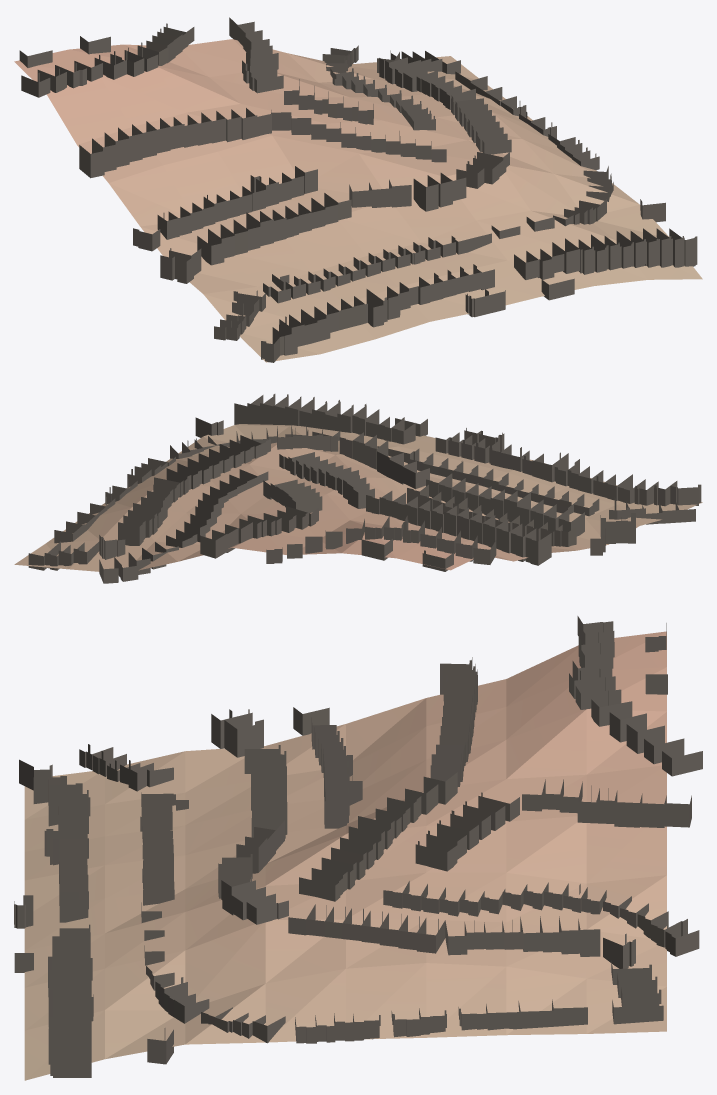
Rendered from tile_21_-12_lod1.gltf.
3 views of the same model, one above another, from view 1: azimuth 30°, elevation 25°; view 2: azimuth 150°, elevation 25°; view 3: azimuth 270°, elevation 25° (orthographic). The views are drawn at different scales.
Parts seen in each view (by area): view 1: Terrain_col, Buildings_col; view 2: Buildings_col, Terrain_col; view 3: Terrain_col, Buildings_col.
Boxes of the visible parts, x1=… form: Terrain_col: x1=14, y1=39, x2=702, y2=362; Buildings_col: x1=19, y1=17, x2=697, y2=362; Buildings_col: x1=28, y1=394, x2=701, y2=583; Terrain_col: x1=14, y1=424, x2=702, y2=571; Terrain_col: x1=24, y1=631, x2=666, y2=1080; Buildings_col: x1=14, y1=616, x2=702, y2=1077.
Bounding box in the file's own units: 278 × 83.93 × 275.
